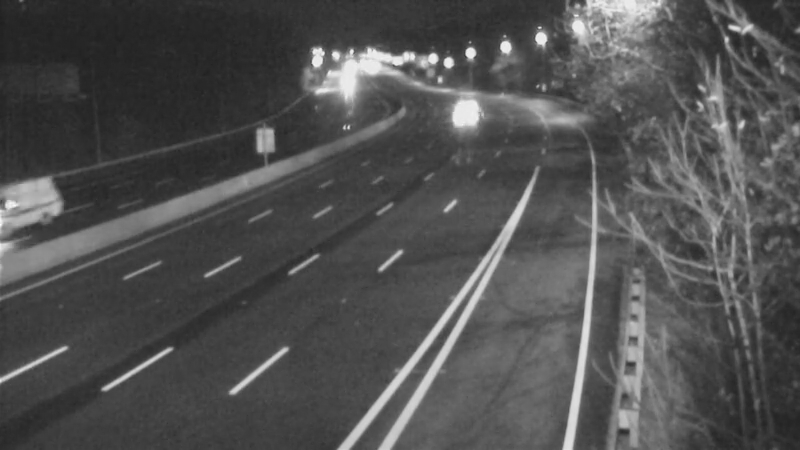vehicle: (1, 162, 68, 242), (442, 80, 492, 130), (436, 94, 486, 144)
